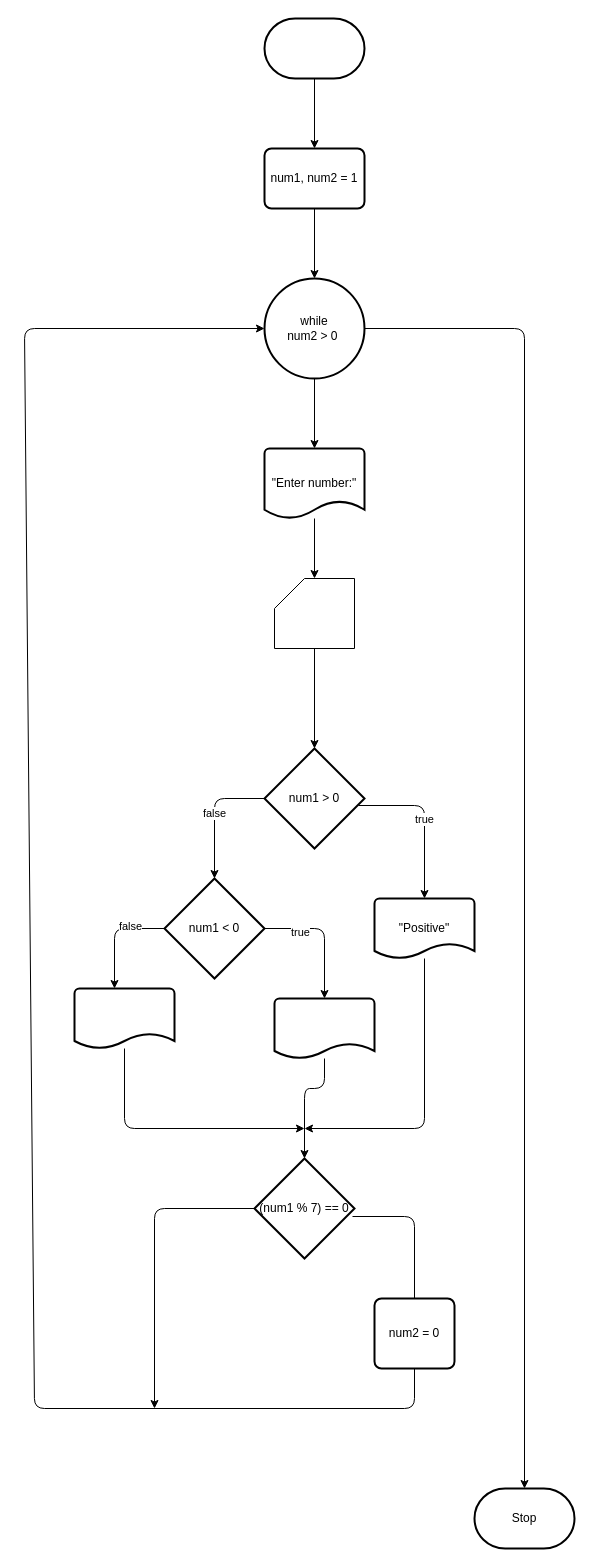
The diagram is 593 pixels wide and 1566 high, and some of its shapes have lost their labels. The centre of each missing label's shape, as x and y in pixels:
"Negative": (x=324, y=1028)
"Zero": (x=124, y=1018)
num1: (x=314, y=613)
Start: (x=314, y=48)
